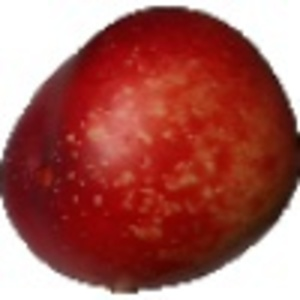nectarina: (1, 5, 300, 300)
